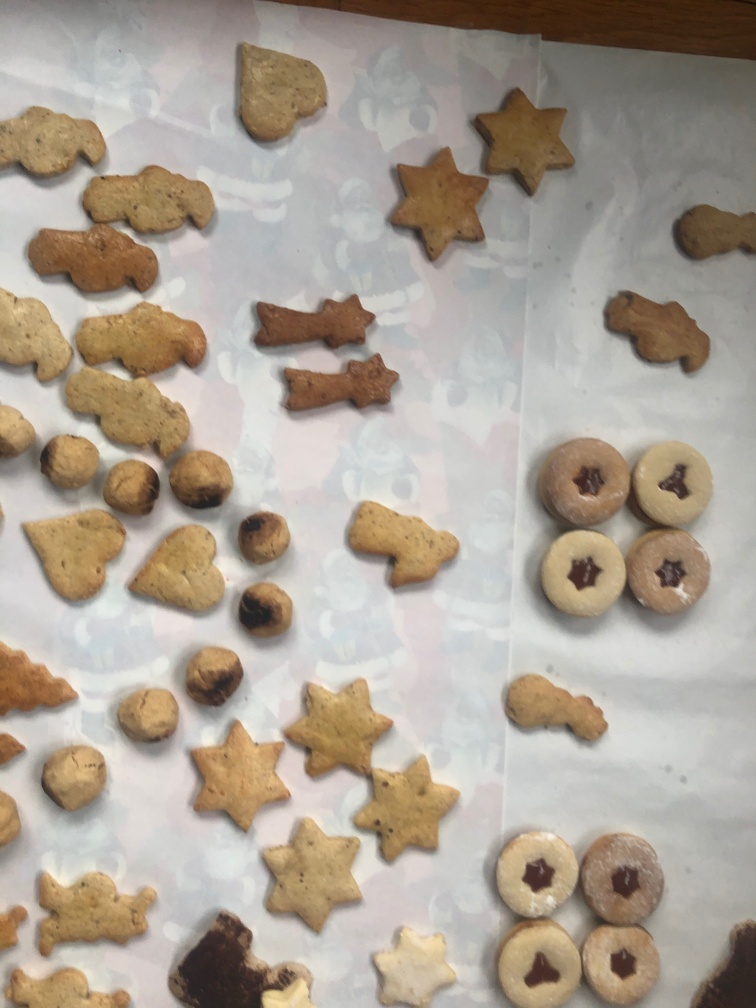angel: (341, 489, 470, 592)
christmas shortbread with jam: (527, 434, 632, 535), (486, 821, 580, 921), (627, 529, 708, 635), (634, 429, 720, 523), (533, 528, 624, 616), (491, 921, 583, 1007), (582, 829, 666, 921), (586, 919, 664, 1003)
heart: (13, 496, 130, 610), (225, 39, 330, 151), (126, 523, 230, 617)
santa claus: (29, 863, 164, 957), (61, 362, 196, 455), (27, 219, 169, 306), (70, 301, 222, 382), (81, 160, 221, 240), (598, 282, 711, 377), (1, 100, 107, 189), (1, 284, 70, 390), (1, 962, 132, 1008)
shooting star: (247, 284, 380, 359), (278, 357, 413, 424)
snowball: (33, 740, 109, 811), (236, 578, 298, 653), (177, 642, 240, 715), (166, 443, 232, 510), (115, 683, 182, 745), (102, 456, 161, 518), (41, 428, 99, 490), (238, 504, 293, 563)
snowman: (498, 664, 619, 759)
star: (181, 712, 302, 834), (383, 145, 497, 271), (258, 819, 364, 948), (280, 671, 392, 781), (470, 83, 578, 196), (352, 755, 459, 865), (365, 915, 459, 1008)
weird #2: (164, 911, 314, 1008)
